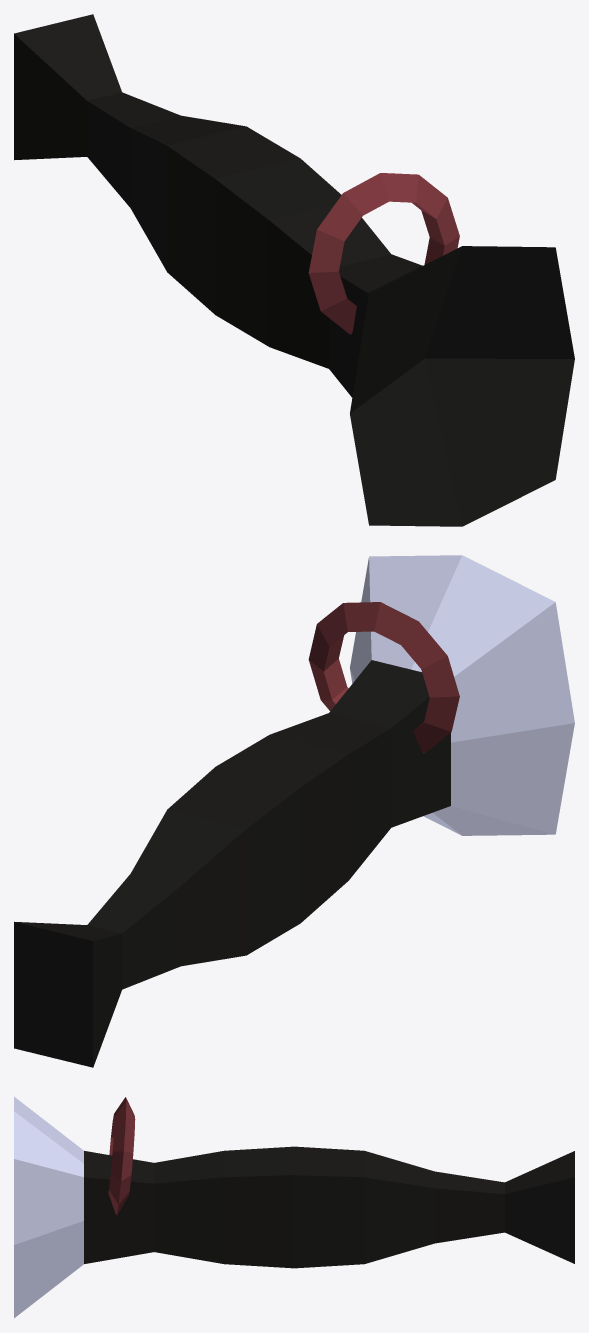
Rendered from GunIdea2.fbx.
3 views of the same model, one above another, from view 1: azimuth 30°, elevation 25°; view 2: azimuth 150°, elevation 25°; view 3: azimuth 270°, elevation 25° (orthographic). The views are drawn at different scales.
Visible parts, largest first — view 1: Cube, Torus; view 2: Cube, Torus; view 3: Cube, Torus.
Part boxes in pixels (left/top/right/bottom): Cube: left=14, top=14, right=574, bottom=526; Torus: left=308, top=173, right=459, bottom=334; Cube: left=14, top=555, right=574, bottom=1067; Torus: left=308, top=602, right=459, bottom=753; Cube: left=14, top=1096, right=574, bottom=1318; Torus: left=108, top=1097, right=135, bottom=1215.
Size of the model in its own units: 372 by 464 by 1170.
